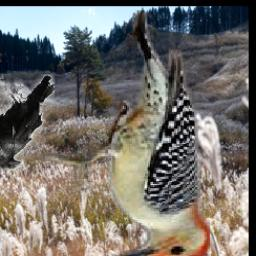Crow: (0, 74, 56, 171)
Woodpecker: (42, 11, 211, 256)
